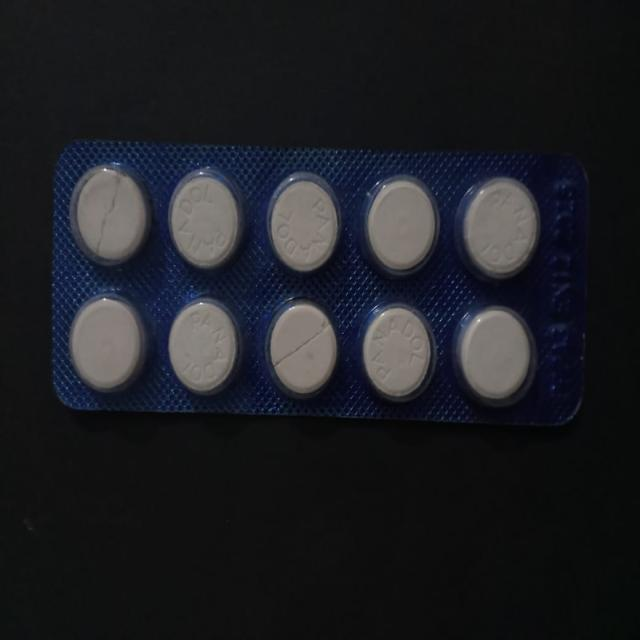defect: (68, 164, 151, 268), (264, 298, 343, 401)
